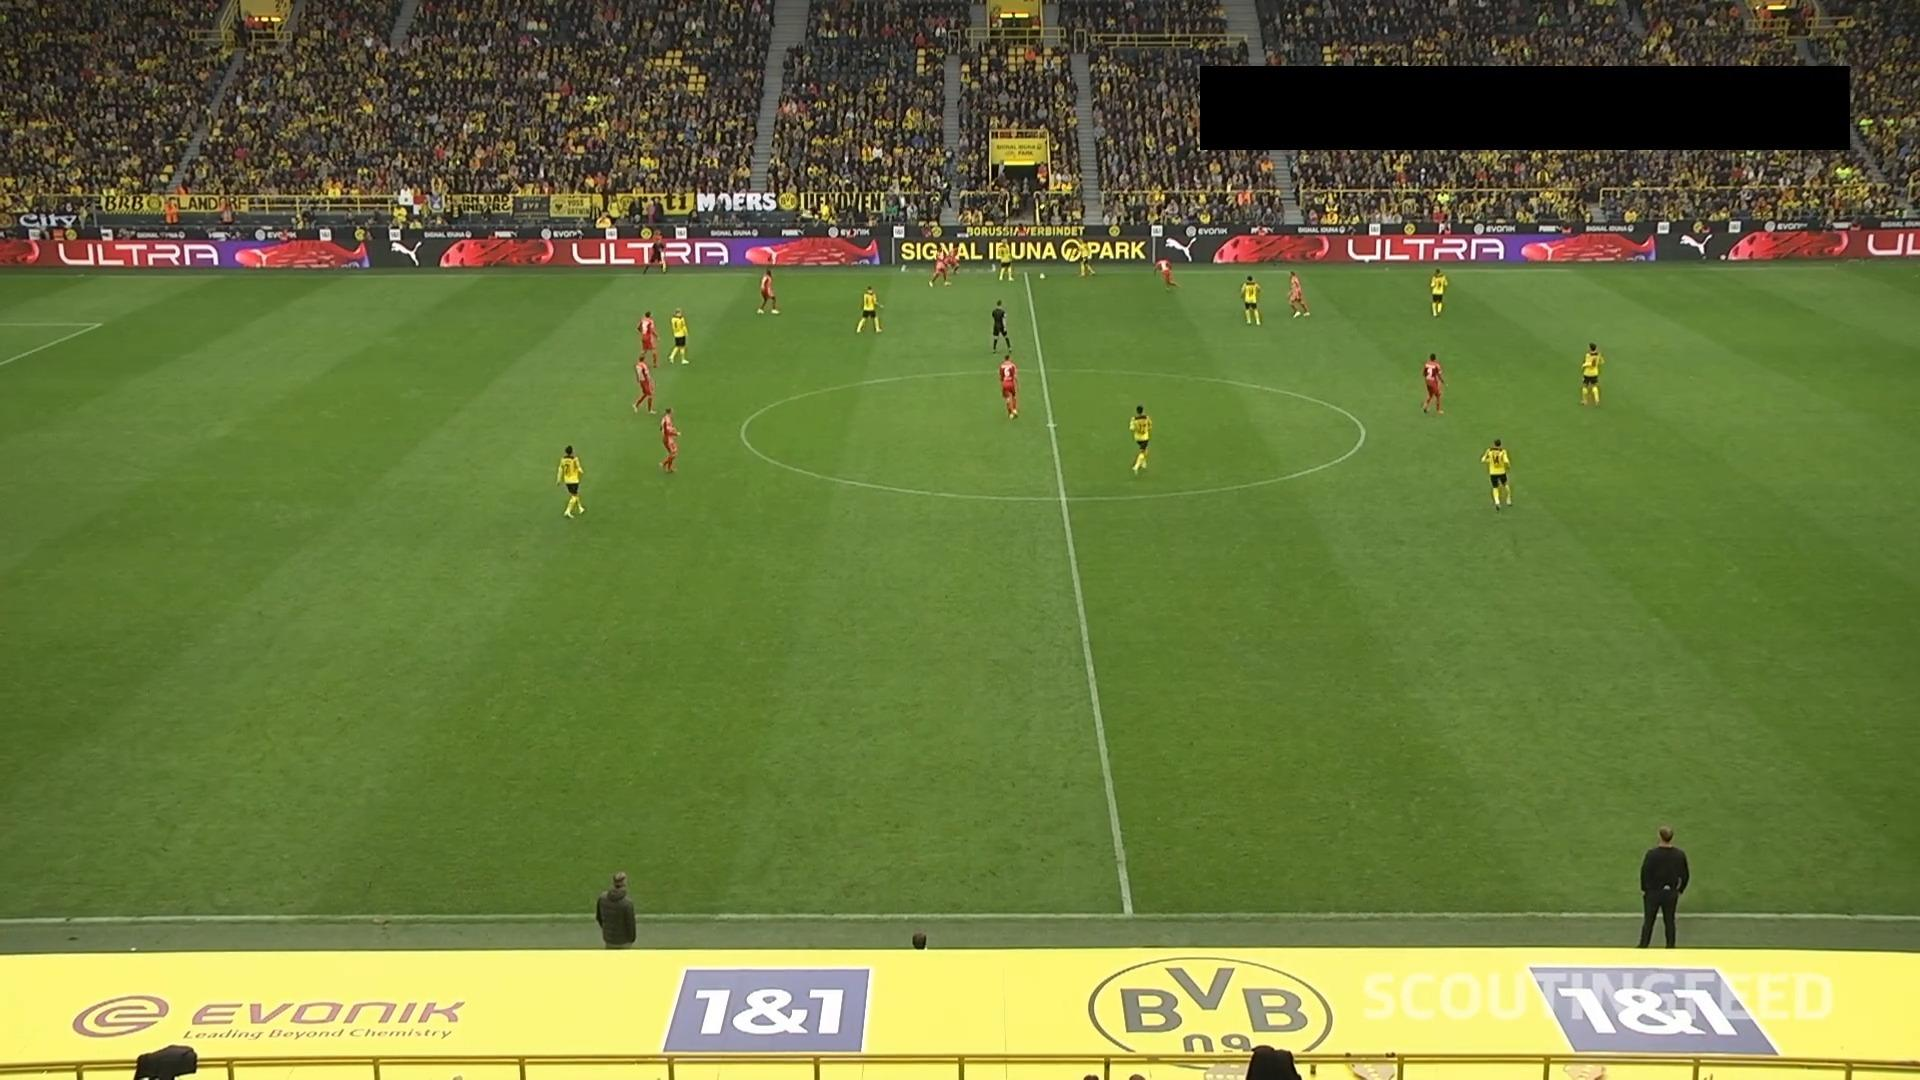ball: (1038, 272, 1047, 281)
